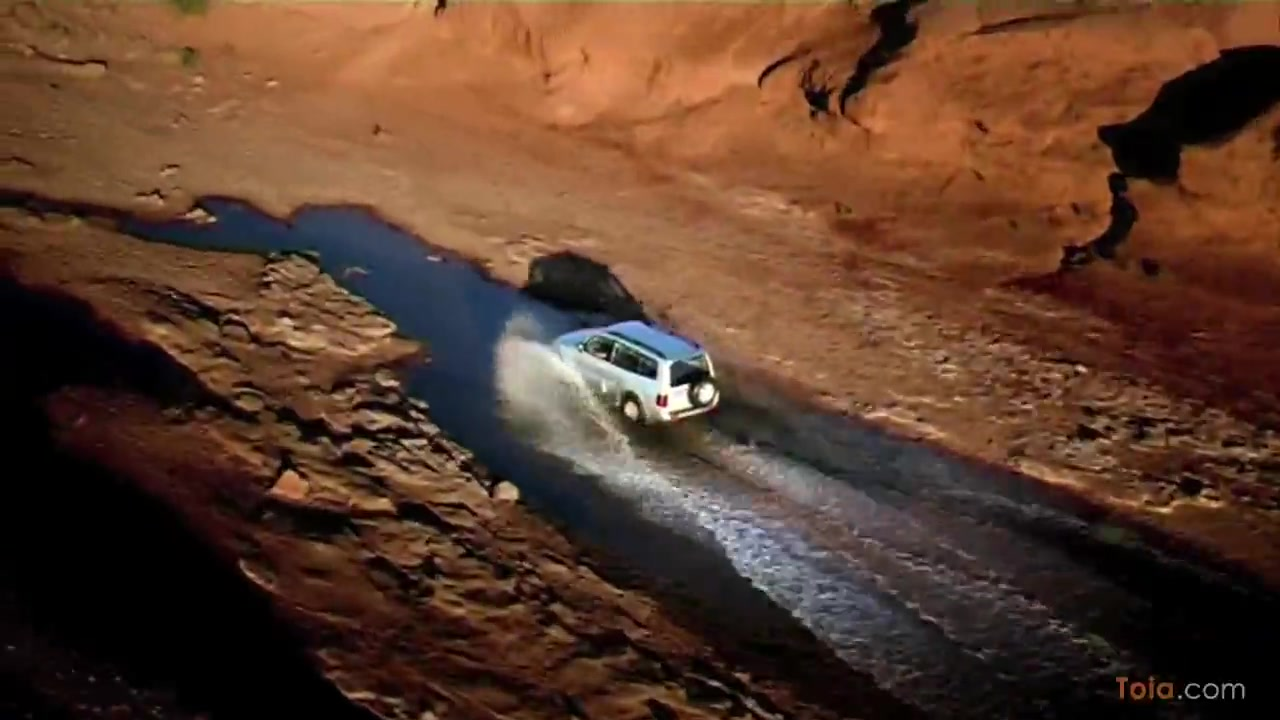car: (554, 320, 724, 430)
